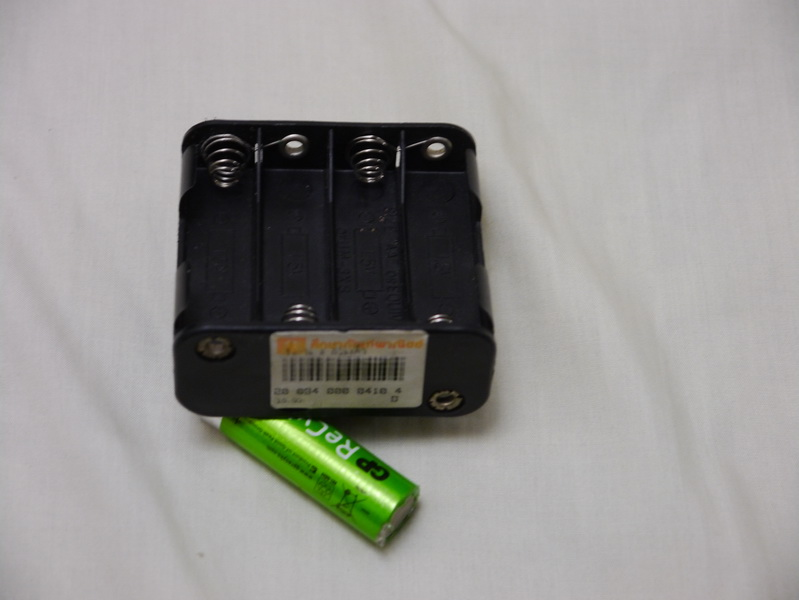Battery: (193, 410, 425, 556)
